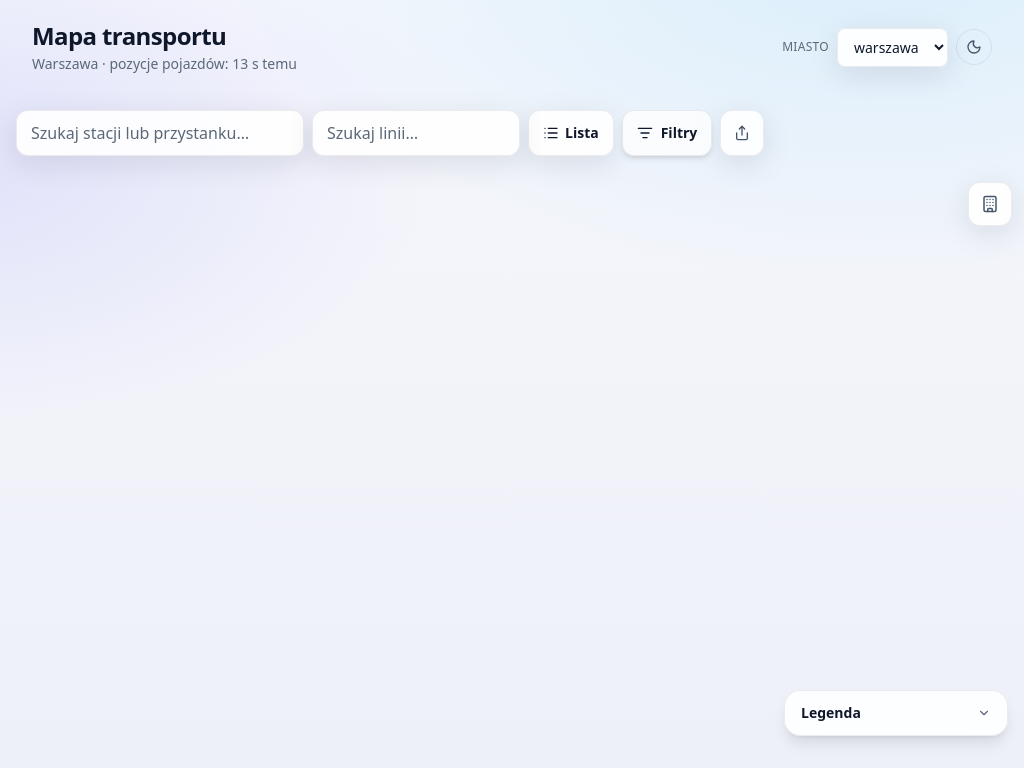
Test: CityMapPage — view, sharing, following › shares the current view link and confirms it
The width and height of the screenshot is (1024, 768).
Step 1. Click the button named "Udostępnij ten widok mapy" → (742, 133), box [720,110,764,156]
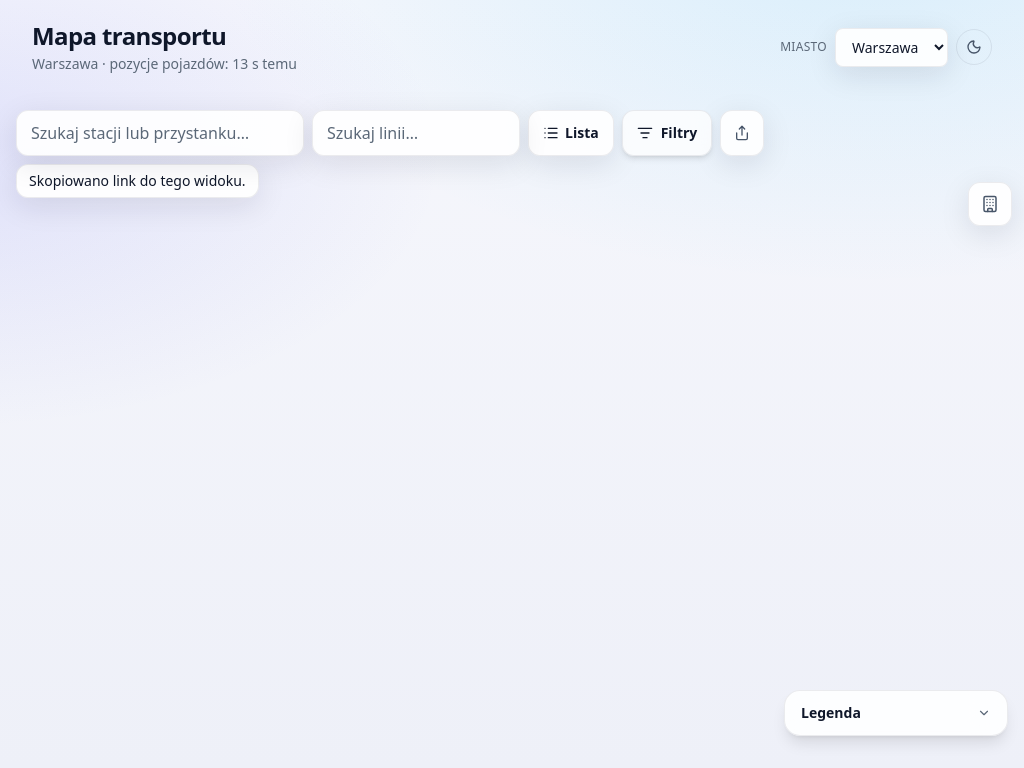
Now the text "Skopiowano link do tego widoku." is shown, box [16,164,259,198]
